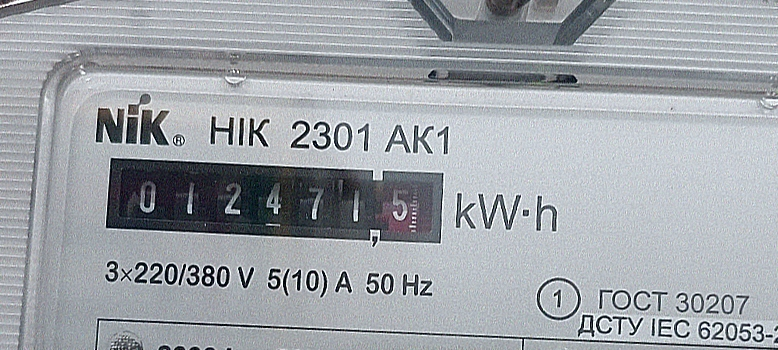0: (133, 176, 158, 214)
1: (181, 179, 196, 215), (347, 186, 360, 222)
2: (220, 179, 243, 216)
4: (262, 178, 283, 216)
5: (387, 183, 411, 222)
7: (301, 182, 324, 222)
screen: (92, 139, 456, 260)
